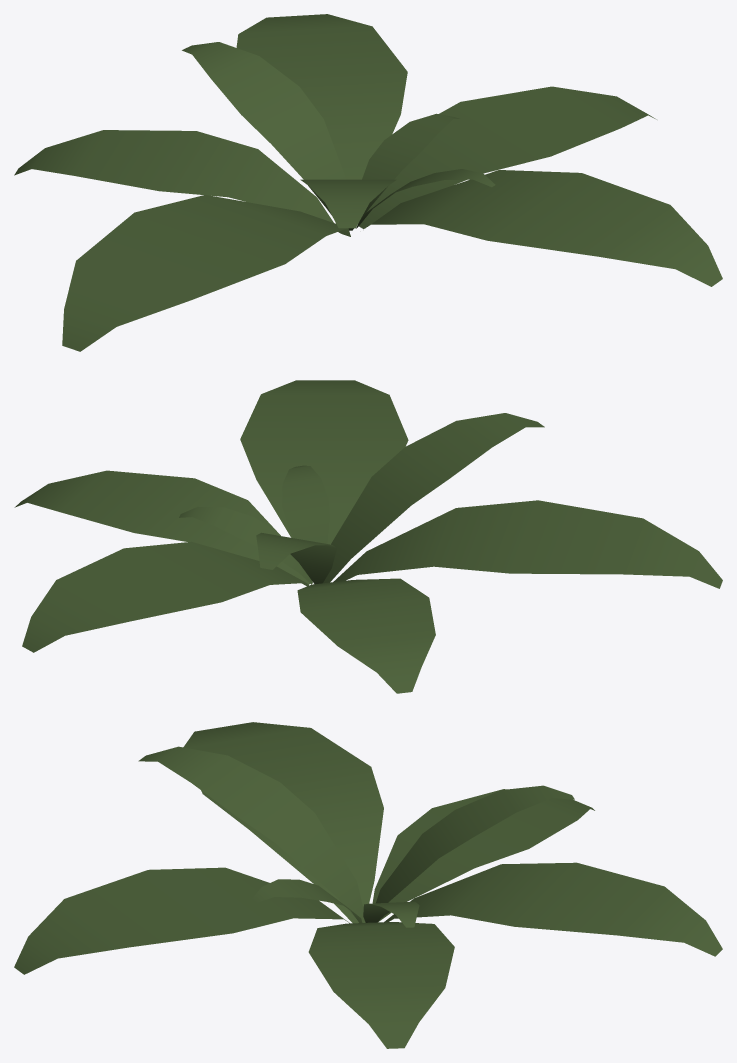
File: pianta4A.fbx
3 renders of one model, top to bottom at view 1: azimuth 30°, elevation 25°; view 2: azimuth 150°, elevation 25°; view 3: azimuth 270°, elevation 25°, orthographic. The views are drawn at different scales.
Parts seen in each view (by area): view 1: 4A; view 2: 4A; view 3: 4A.
Part boxes in pixels (<box>): 4A: <box>14,14,722,351</box>; 4A: <box>14,380,722,693</box>; 4A: <box>14,722,722,1048</box>.
Size of the model in its own units: 183 by 34.04 by 177.
